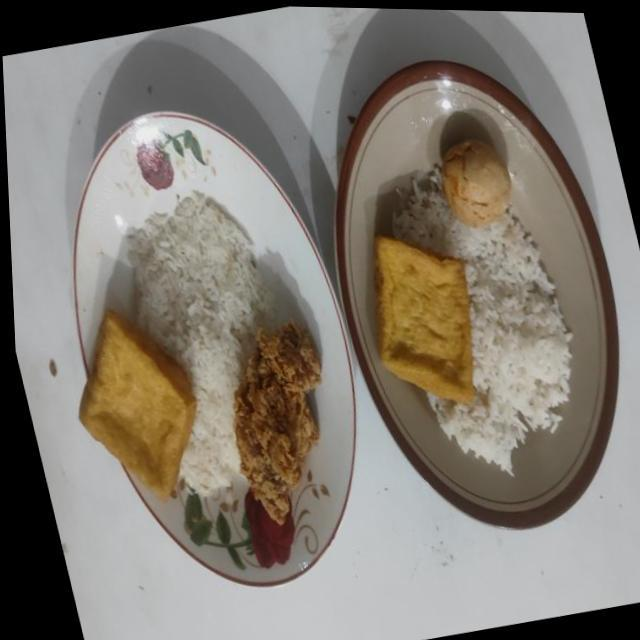nasi_putih: (393, 168, 573, 473), (129, 190, 270, 494)
tahu_goreng: (80, 309, 196, 502), (375, 236, 474, 403)
